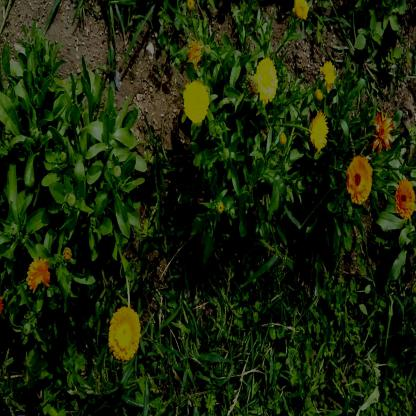marigold: (108, 307, 139, 360), (346, 155, 371, 204), (184, 81, 209, 122), (256, 58, 277, 101), (394, 178, 415, 219), (26, 259, 51, 293), (373, 110, 396, 145), (310, 109, 329, 147), (320, 59, 336, 92), (292, 0, 309, 21)
